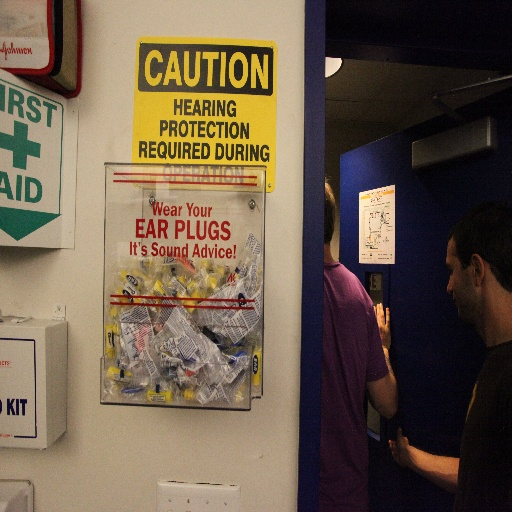hand: (372, 300, 391, 350), (389, 427, 408, 467)
